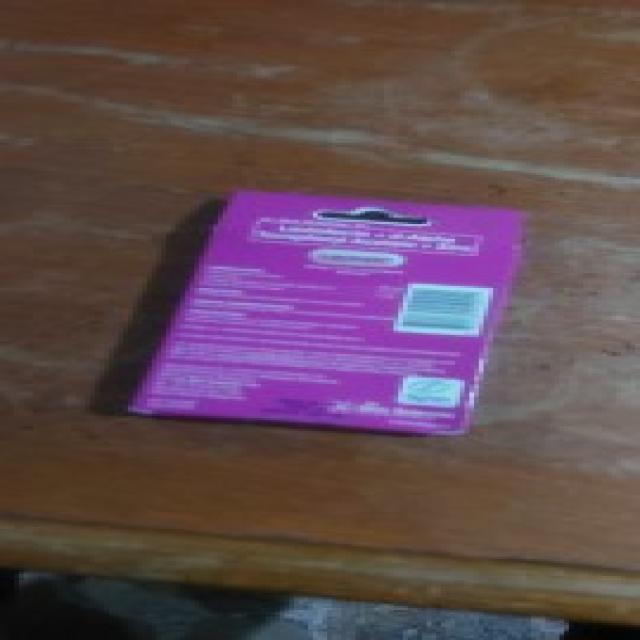Cacat: (133, 196, 531, 434)
